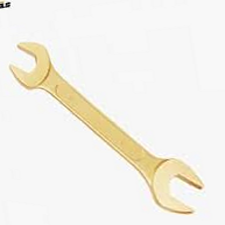Wrench: (10, 34, 208, 221)
